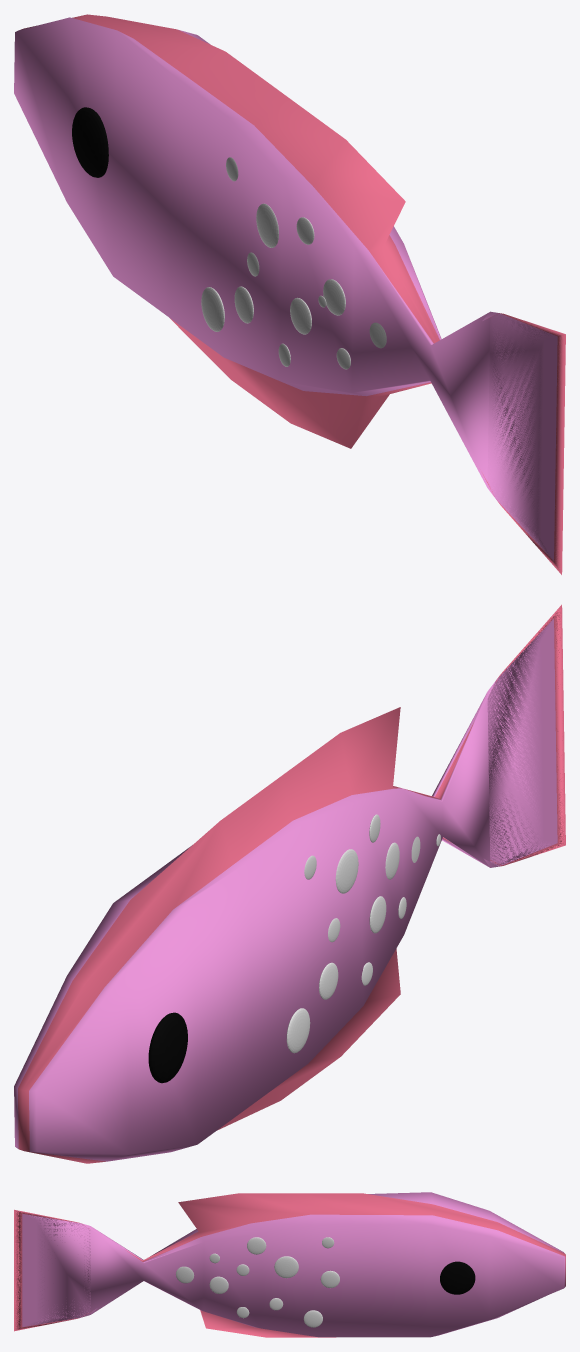
The model's file is fish2.glb.
The picture shows the model from 3 angles, top to bottom: view 1: azimuth 30°, elevation 25°; view 2: azimuth 150°, elevation 25°; view 3: azimuth 270°, elevation 25°; orthographic projection. The views are drawn at different scales.
Parts seen in each view (by area): view 1: Cube, Sphere.021, Sphere.019, Sphere.012; view 2: Cube, Sphere.021, Sphere.019, Sphere.012; view 3: Cube, Sphere, Sphere.006, Sphere.003, Sphere.004, Sphere.007, Sphere.001, Sphere.010.
Part boxes in pixels (bbox=[...]): Cube: bbox=[14, 14, 565, 574]; Sphere.021: bbox=[72, 107, 108, 177]; Sphere.019: bbox=[201, 287, 224, 331]; Sphere.012: bbox=[256, 203, 278, 247]; Cube: bbox=[14, 604, 565, 1163]; Sphere.021: bbox=[148, 1012, 187, 1083]; Sphere.019: bbox=[286, 1008, 310, 1053]; Sphere.012: bbox=[335, 849, 358, 893]; Cube: bbox=[14, 1192, 565, 1337]; Sphere: bbox=[440, 1261, 475, 1294]; Sphere.006: bbox=[274, 1256, 298, 1278]; Sphere.003: bbox=[303, 1310, 322, 1327]; Sphere.004: bbox=[247, 1237, 266, 1254]; Sphere.007: bbox=[209, 1276, 228, 1293]; Sphere.001: bbox=[320, 1270, 339, 1288]; Sphere.010: bbox=[176, 1266, 194, 1283].
Size of the model in its own units: 0.8342 by 2.25 by 7.43.
